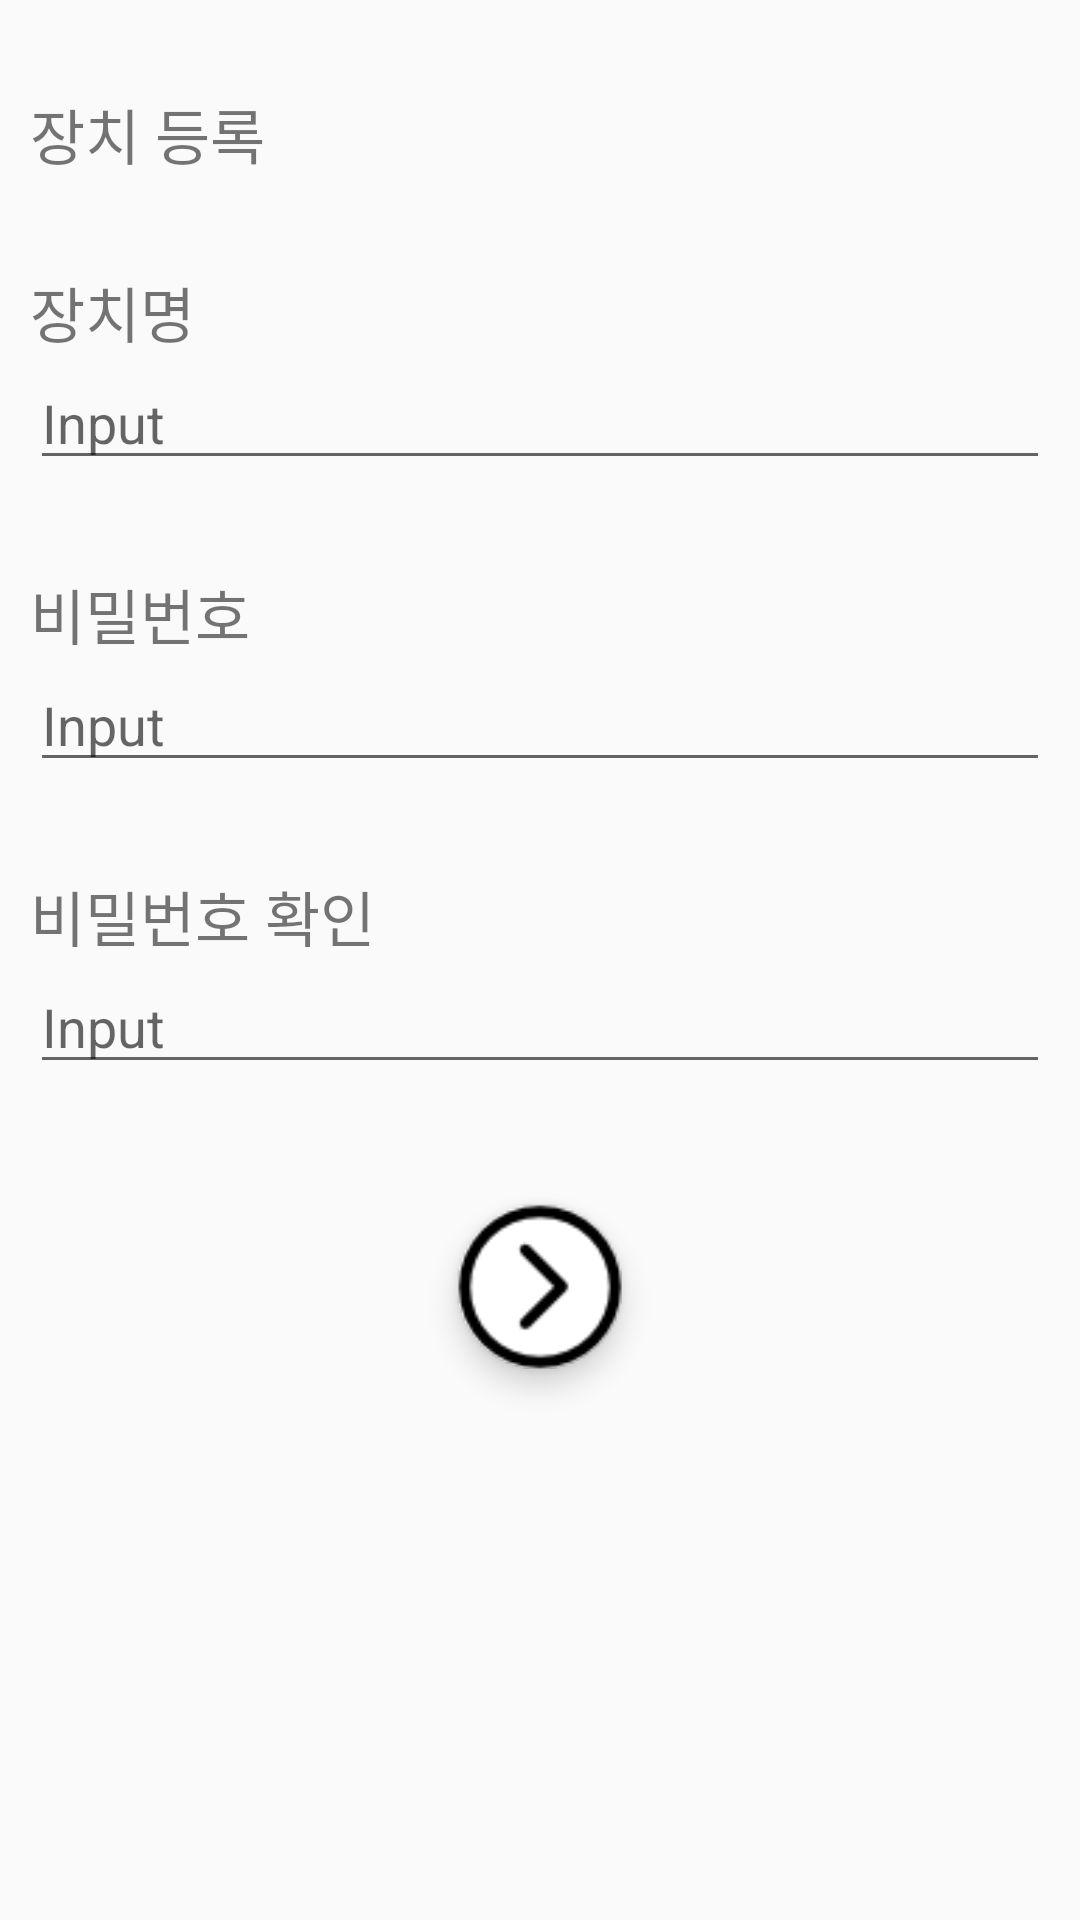

Icons on this 1080px x 1920px Android screen, each with its box as bbox=[x1, y1, x2, y2]:
next right arrow: bbox=[457, 1204, 622, 1369]
